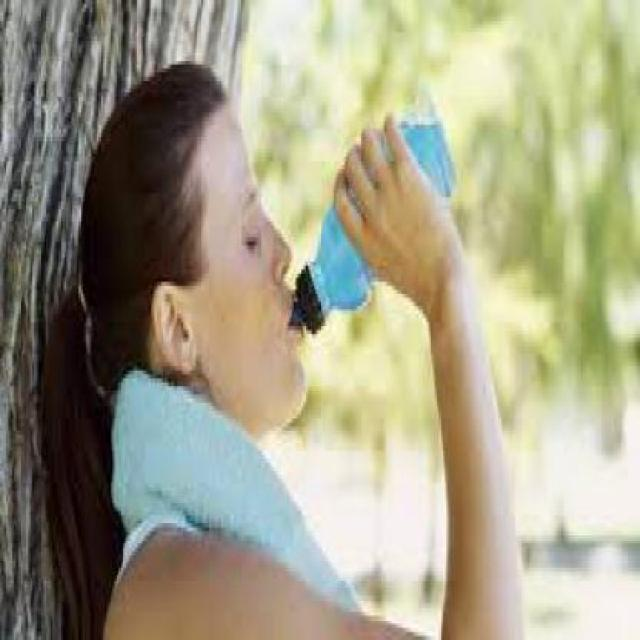Drinking: (272, 92, 458, 338)
